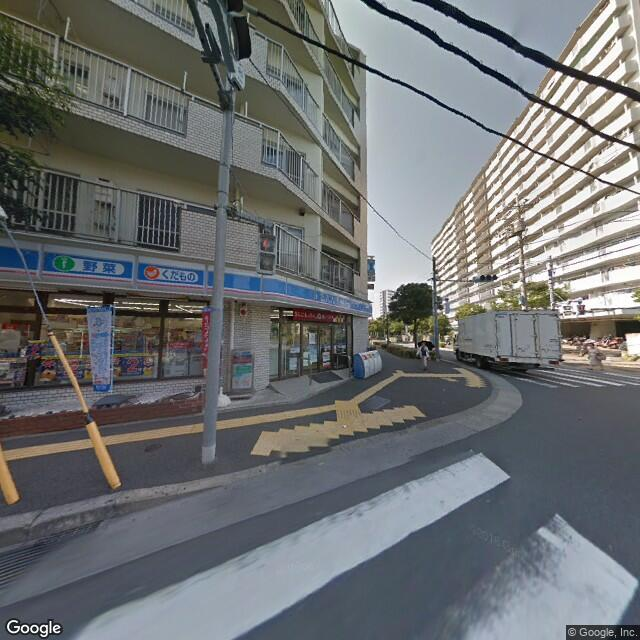lawson: (1, 236, 374, 322)
